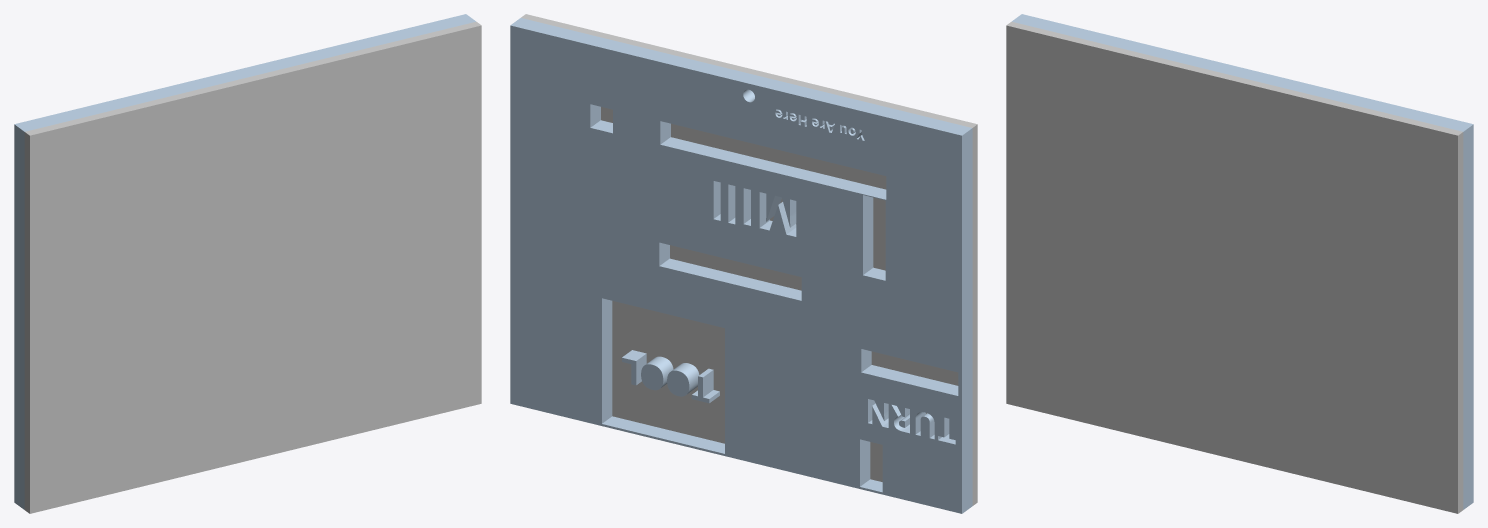
Rendered from floor map.fbx.
3 views of the same model, side by side, from view 1: azimuth 30°, elevation 25°; view 2: azimuth 150°, elevation 25°; view 3: azimuth 330°, elevation 25° (orthographic).
Visible parts, largest first — view 1: imagetostl_mesh1, imagetostl_mesh0; view 2: imagetostl_mesh0, imagetostl_mesh1; view 3: imagetostl_mesh1, imagetostl_mesh0.
Part boxes in pixels (x1=…): imagetostl_mesh1: x1=24, y1=21, x2=481, y2=513; imagetostl_mesh0: x1=14, y1=14, x2=475, y2=509; imagetostl_mesh0: x1=510, y1=18, x2=972, y2=513; imagetostl_mesh1: x1=521, y1=14, x2=977, y2=505; imagetostl_mesh1: x1=1006, y1=21, x2=1463, y2=513; imagetostl_mesh0: x1=1012, y1=14, x2=1473, y2=509.
Bounding box in the file's own units: 10000 × 8000 × 600.
